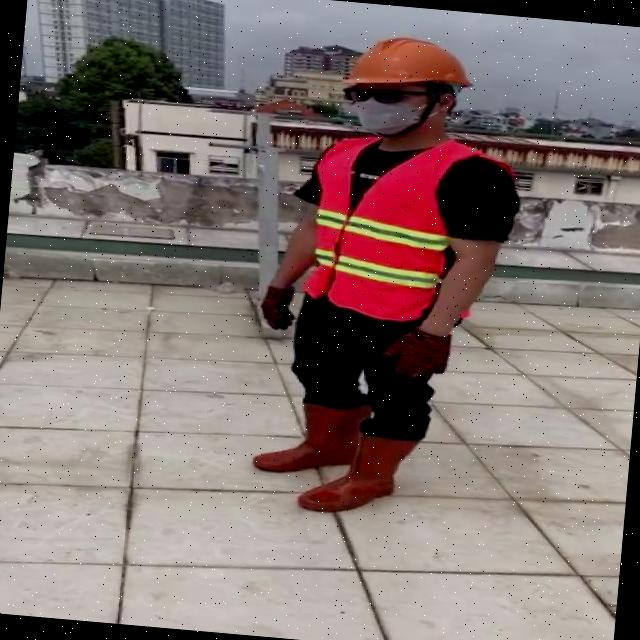boots: (296, 426, 418, 519), (252, 397, 370, 481)
helmet: (337, 28, 478, 94)
vest: (300, 131, 498, 325)
